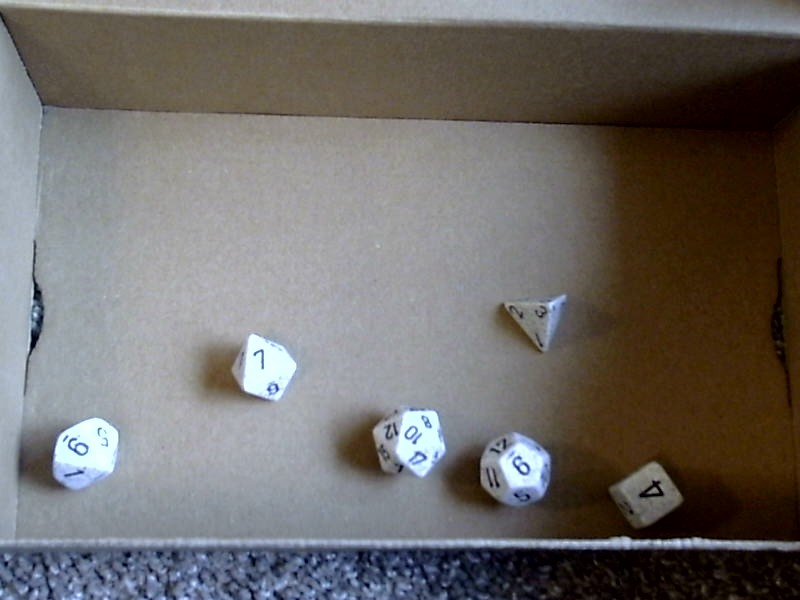d10 9: (48, 411, 119, 494)
d12 9: (476, 430, 556, 512)
d20 10: (367, 403, 450, 482)
d4 3: (501, 287, 569, 356)
d6 4: (607, 454, 688, 537)
d8 7: (226, 332, 299, 407)
